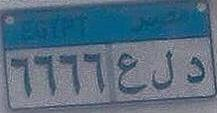6: (31, 53, 58, 99), (83, 51, 106, 96), (58, 53, 81, 95), (9, 57, 31, 98)
ain: (116, 49, 147, 98)
daal: (180, 51, 206, 88)
laam: (148, 45, 177, 93)
